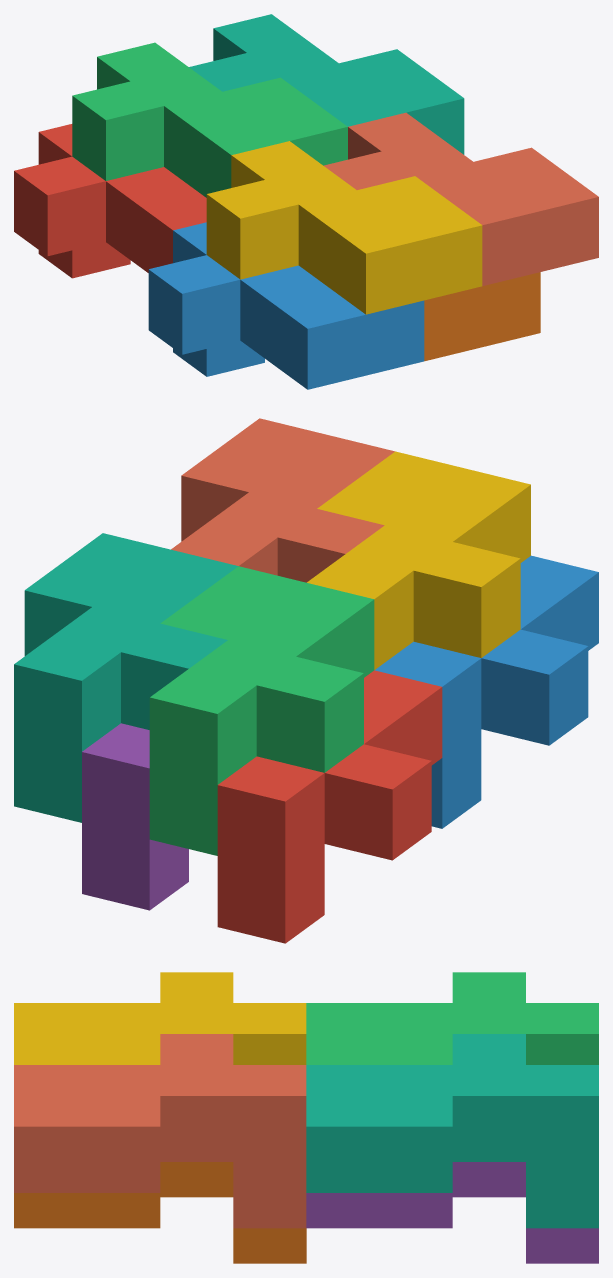
Rendered from tiling.obj.
3 views of the same model, one above another, from view 1: azimuth 30°, elevation 25°; view 2: azimuth 150°, elevation 25°; view 3: azimuth 270°, elevation 25° (orthographic). The views are drawn at different scales.
Visible parts, largest first — view 1: copy_1_domain_4, copy_1_domain_2, copy_1_domain_3, copy_1_domain_8, copy_1_domain_1, copy_1_domain_7, copy_1_domain_6; view 2: copy_1_domain_3, copy_1_domain_7, copy_1_domain_1, copy_1_domain_4, copy_1_domain_2, copy_1_domain_8, copy_1_domain_5; view 3: copy_1_domain_8, copy_1_domain_7, copy_1_domain_4, copy_1_domain_3, copy_1_domain_6, copy_1_domain_5.
Part boxes in pixels (left/top/right/bottom): copy_1_domain_4: left=206, top=141, right=482, bottom=314; copy_1_domain_2: left=148, top=222, right=424, bottom=389; copy_1_domain_3: left=72, top=42, right=347, bottom=197; copy_1_domain_8: left=324, top=112, right=598, bottom=286; copy_1_domain_1: left=14, top=124, right=206, bottom=278; copy_1_domain_7: left=189, top=14, right=464, bottom=154; copy_1_domain_6: left=424, top=272, right=540, bottom=361; copy_1_domain_3: left=149, top=566, right=374, bottom=855; copy_1_domain_7: left=14, top=533, right=238, bottom=822; copy_1_domain_1: left=217, top=670, right=442, bottom=943; copy_1_domain_4: left=307, top=451, right=530, bottom=669; copy_1_domain_2: left=375, top=555, right=598, bottom=828; copy_1_domain_8: left=171, top=418, right=394, bottom=582; copy_1_domain_5: left=82, top=723, right=188, bottom=910; copy_1_domain_8: left=14, top=1034, right=306, bottom=1228; copy_1_domain_7: left=306, top=1034, right=598, bottom=1228; copy_1_domain_4: left=14, top=972, right=306, bottom=1064; copy_1_domain_3: left=306, top=972, right=598, bottom=1064; copy_1_domain_6: left=14, top=1162, right=306, bottom=1263; copy_1_domain_5: left=306, top=1162, right=598, bottom=1263.
Size of the model in its own units: 6 by 3 by 8.
